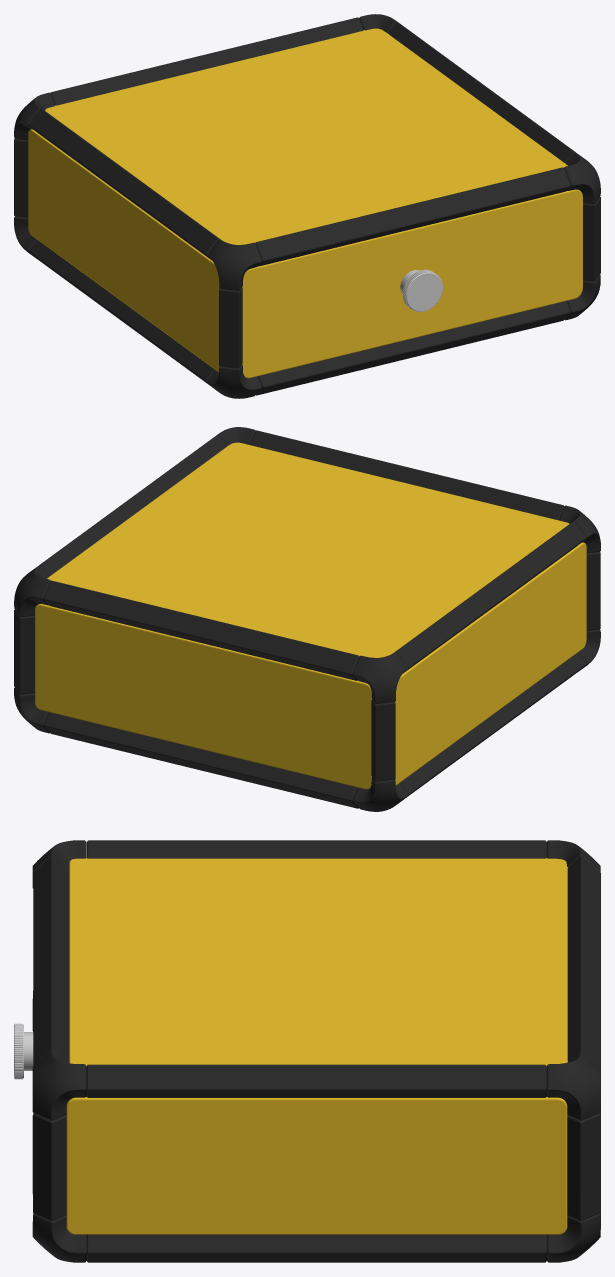
The picture shows the model from 3 angles, top to bottom: view 1: azimuth 30°, elevation 25°; view 2: azimuth 150°, elevation 25°; view 3: azimuth 270°, elevation 25°; orthographic projection. The views are drawn at different scales.
Visible parts, largest first — view 1: 329x329x79; view 2: 329x329x79; view 3: 329x329x79.
Boxes of the visible parts, box(x1,y1,x2,y2) form: 329x329x79: box(14, 14, 600, 398); 329x329x79: box(14, 427, 600, 811); 329x329x79: box(14, 840, 600, 1262).
Size of the model in its own units: 0.4067 by 0.1566 by 0.4196.
